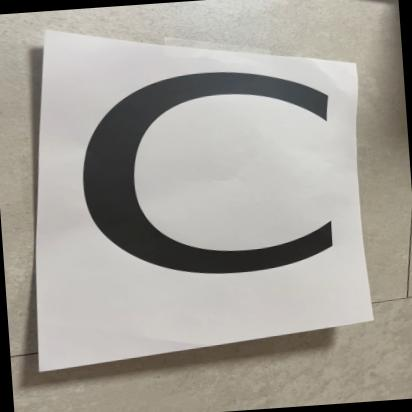seat: (52, 12, 375, 341)
